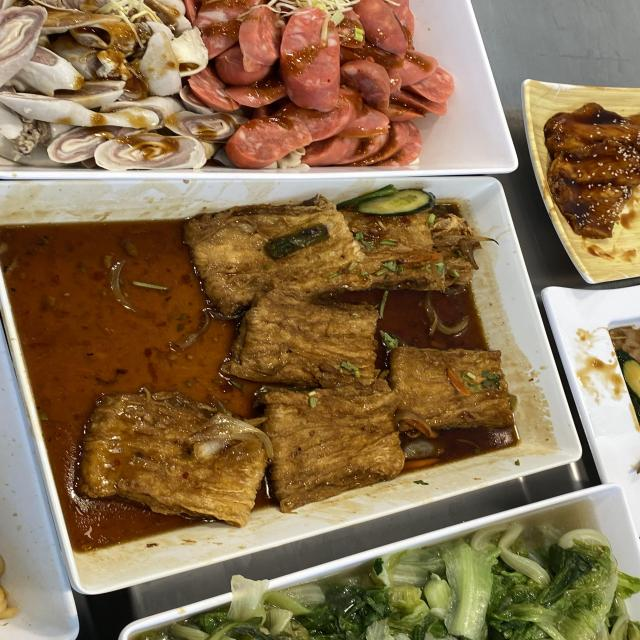bean bag: (173, 225, 437, 470)
